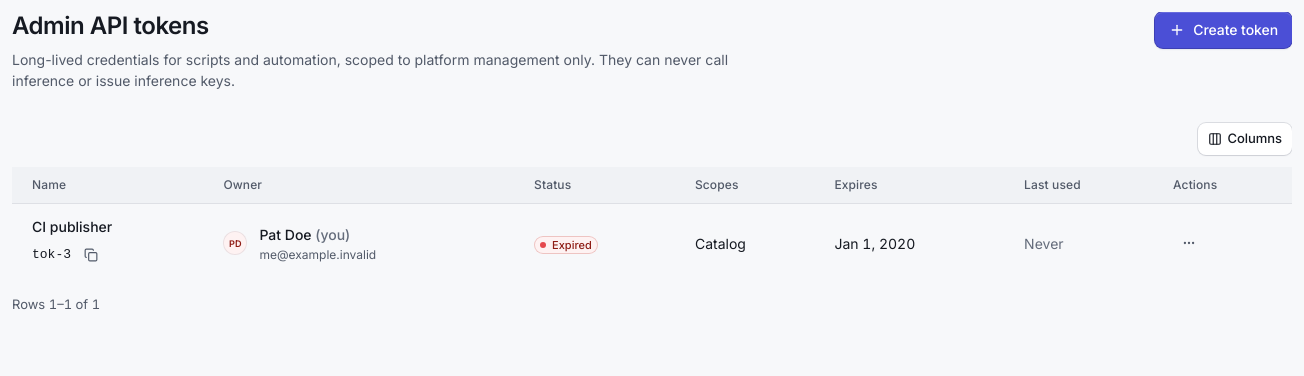
Scenario: Admin API tokens list (#37 PR3) › labels an expired-but-unrevoked token distinctly and still offers Revoke for a clean audit trail
Expected: the text "CI publisher" is shown, x1=32 y1=218 x2=112 y2=235
Expected: the text "Expired" is shown, x1=534 y1=236 x2=598 y2=254
Click the button named "Actions for CI publisher" at x=1189, y=243, box x1=1173 y1=227 x2=1205 y2=259
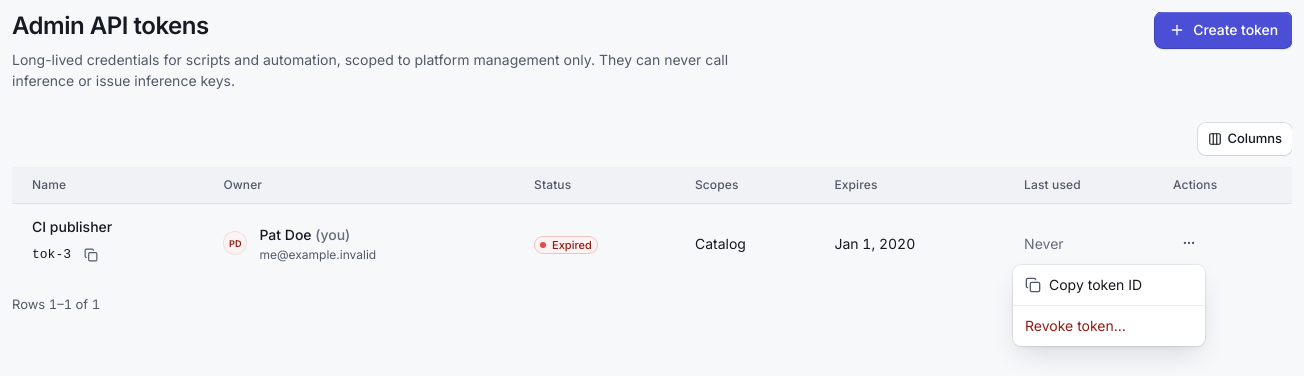
Expected: the menu item "Revoke token…" is shown, x1=1025 y1=317 x2=1126 y2=334
